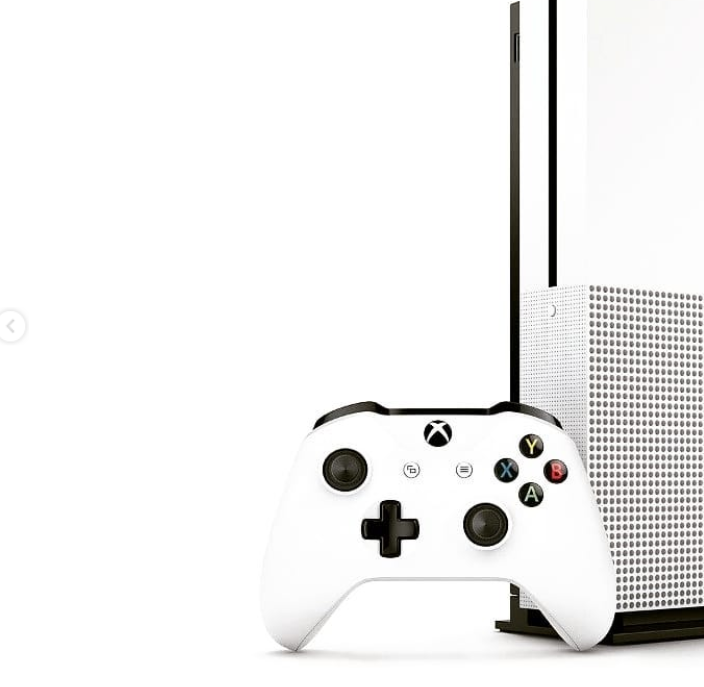gamingconsole: (266, 400, 616, 655)
